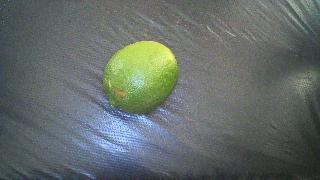DESECHO: (103, 41, 179, 114)
